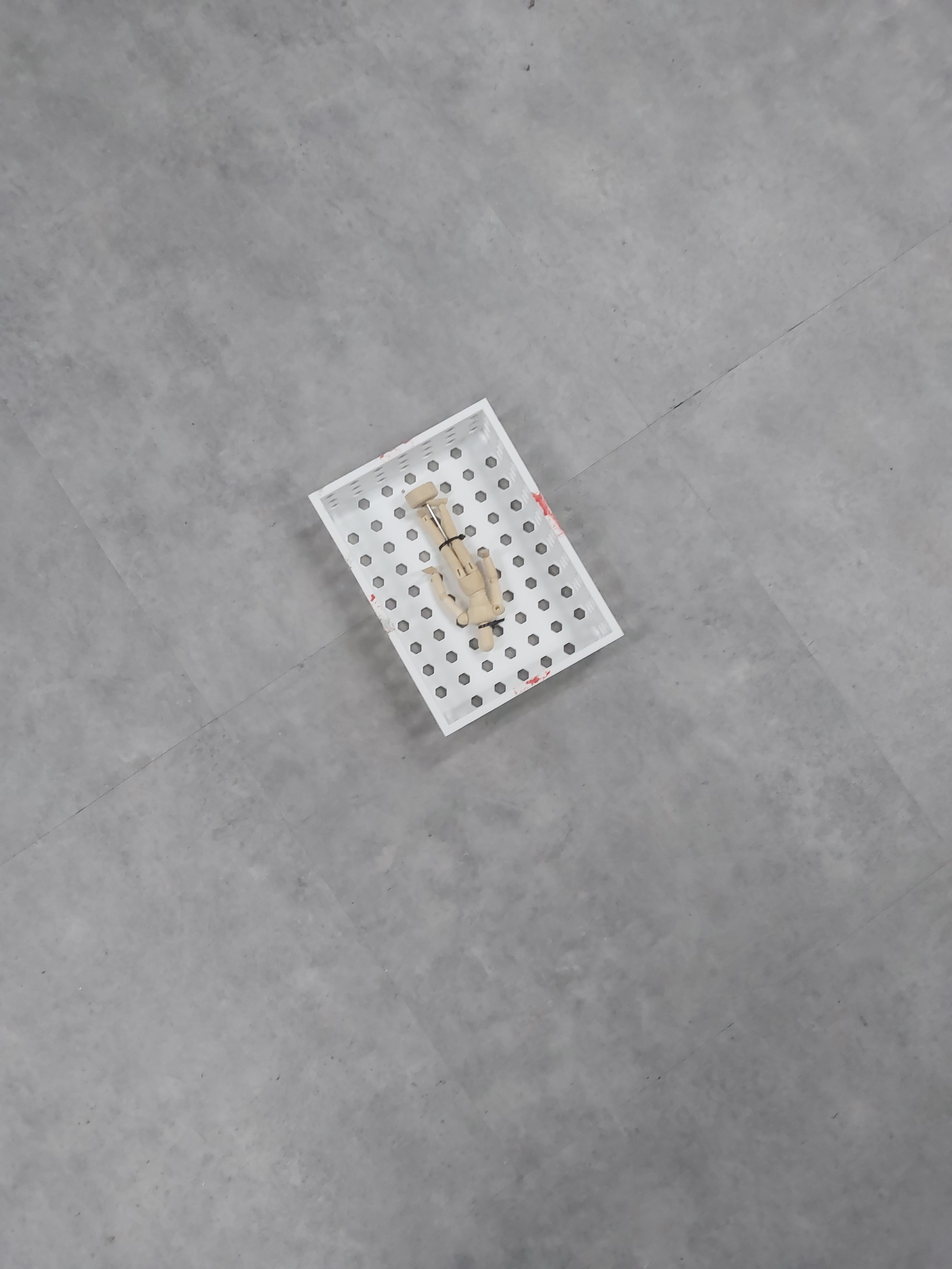basket: (303, 393, 629, 742)
mannequin: (400, 480, 507, 659)
